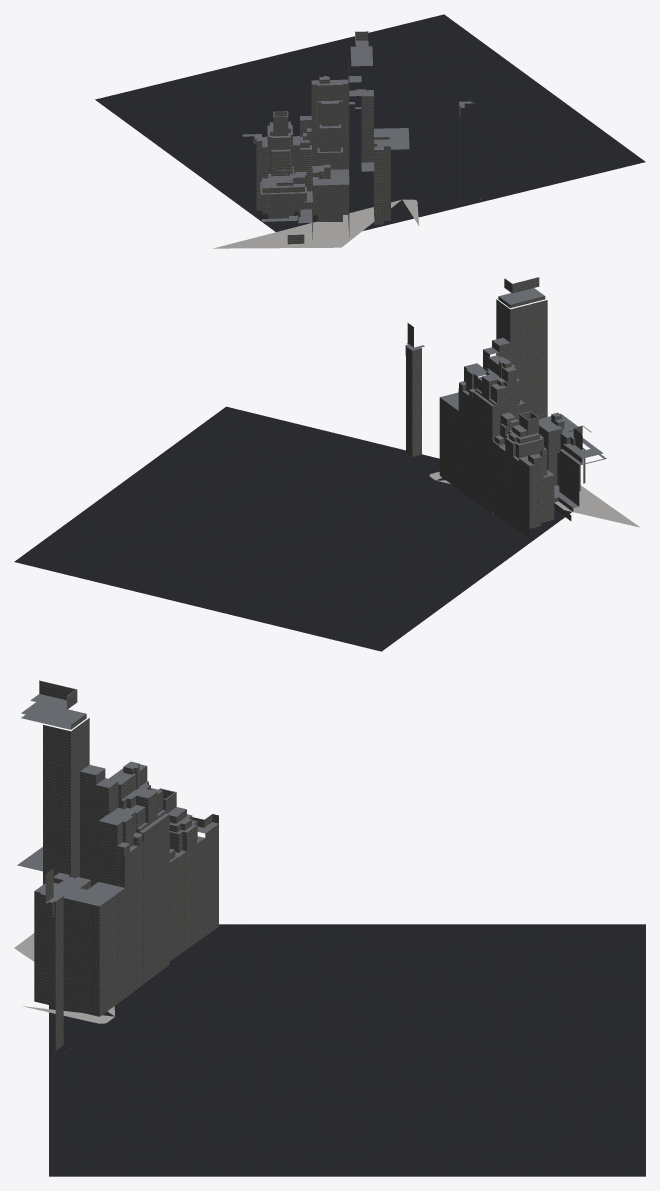
3 renders of one model, top to bottom at view 1: azimuth 30°, elevation 25°; view 2: azimuth 150°, elevation 25°; view 3: azimuth 270°, elevation 25°, orthographic. The views are drawn at different scales.
Visible parts, largest first — view 1: t6_1, detail; view 2: t6_1, detail; view 3: t6_1, detail.
Boxes of the visible parts, x1,y1,x2,y2 form: t6_1: (95, 14, 645, 244); detail: (213, 199, 480, 248); t6_1: (14, 277, 606, 651); detail: (429, 471, 640, 527); t6_1: (17, 680, 645, 1176); detail: (14, 933, 115, 1023).
Bounding box in the file's own units: 369 × 132 × 265.
Materials: 4 (2 with a texture image).
